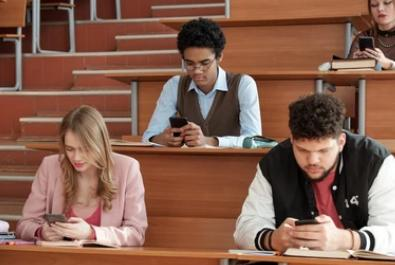phone: (233, 94, 395, 257), (17, 106, 146, 248), (137, 20, 261, 151), (342, 0, 395, 70)
